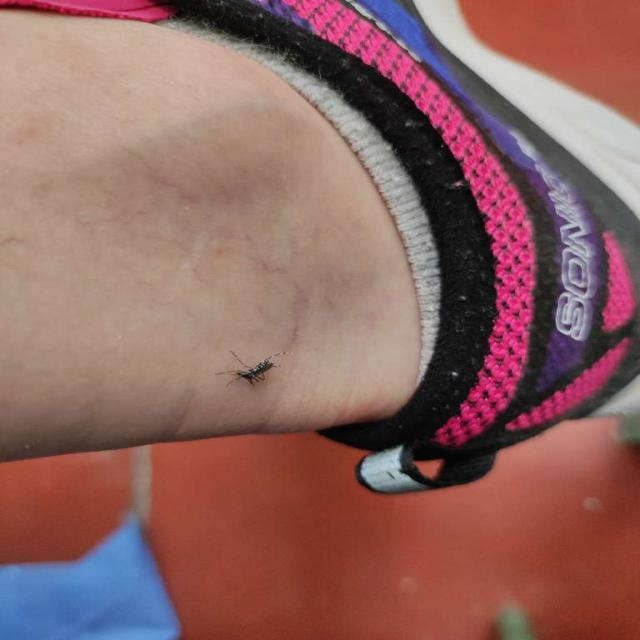albopictus: (214, 342, 292, 393)
